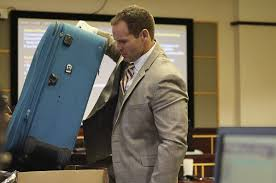suitcase: (4, 22, 109, 169)
